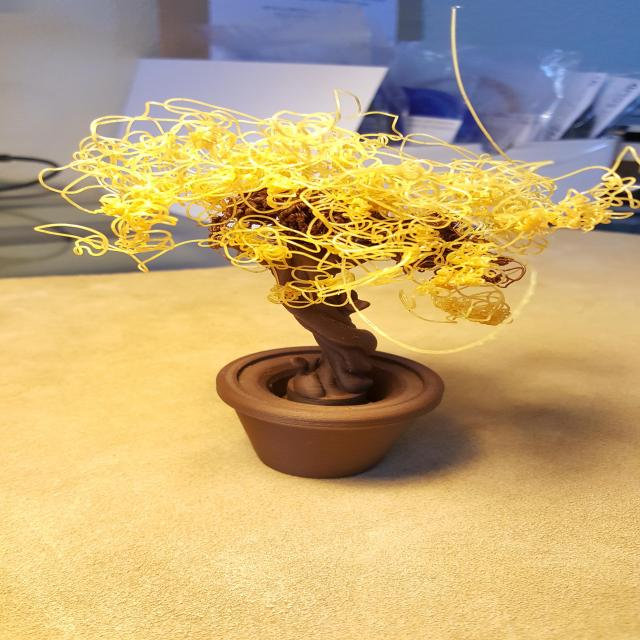spaghetti: (25, 82, 640, 349)
